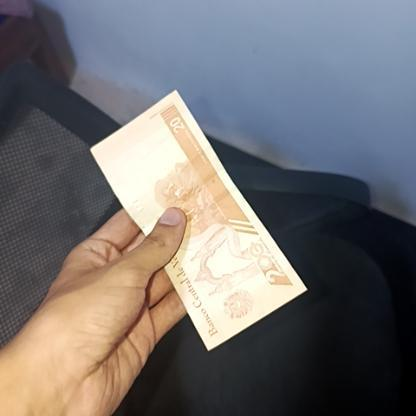twenty-back-vef: (87, 90, 307, 356)
